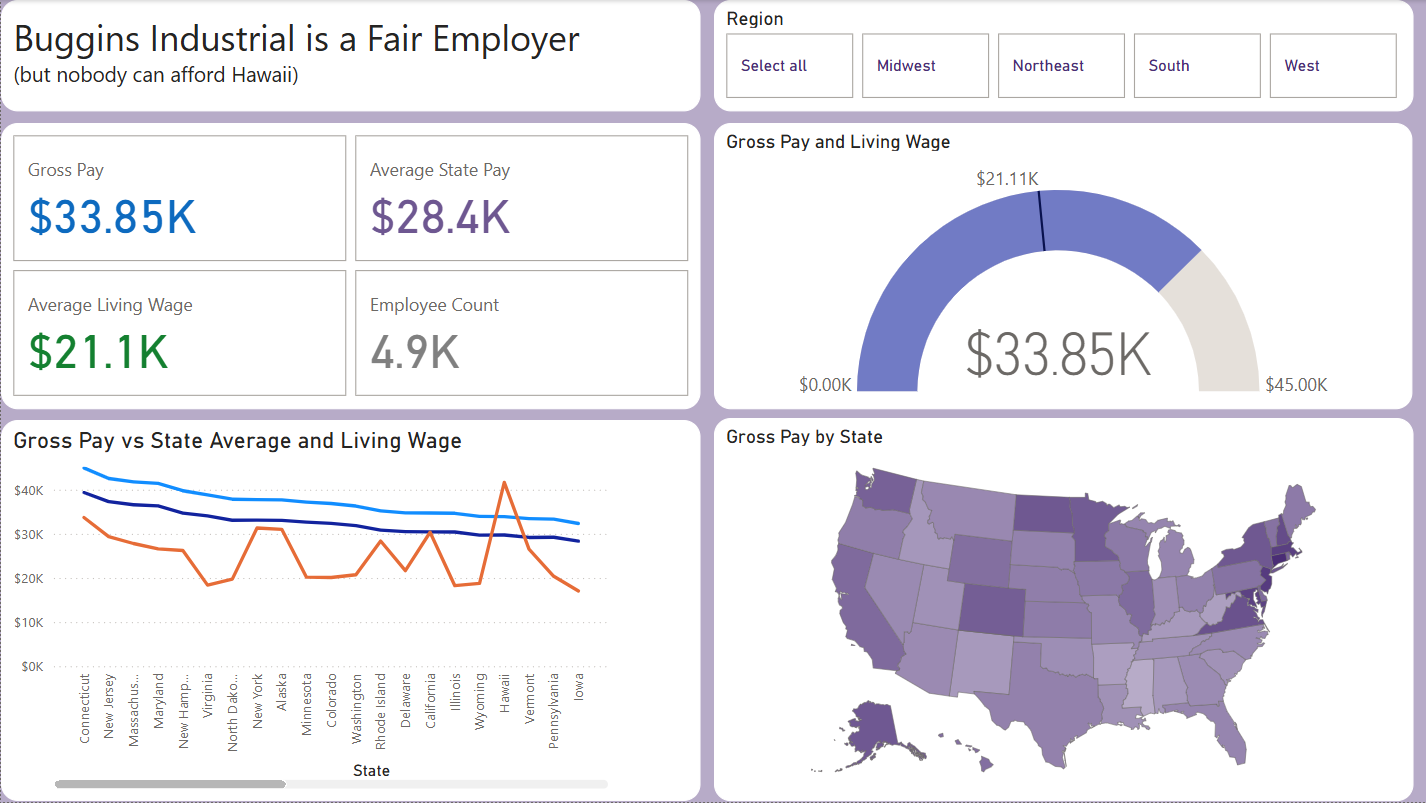

What the dashboard file says about the page in this screenshot:
{"tool":"powerbi","page":{"name":"Summary","canvas":[1280,720],"ordinal":0},"visuals":[{"type":"lineChart","title":"Gross Pay vs State Average and Living Wage","fields":{"Category":["StateInfo.StateName"],"Y":["Employees.Gross Pay","Employees.State AV","Employees.Living Wage"]},"box":[0,341.1,628.4,378],"z":0},{"type":"textbox","box":[0,0,628.4,99.7],"z":1000},{"type":"shapeMap","fields":{"Category":["StateInfo.State"],"Value":["Employees.Gross Pay"]},"box":[640.1,341.1,627.5,378],"z":2000},{"type":"gauge","fields":{"Y":["Employees.Gross Pay"],"TargetValue":["Employees.Living Wage"]},"box":[640.1,110.4,627.5,218.2],"z":3000},{"type":"cardVisual","fields":{"Data":["Employees.Gross Pay","Avg(StateInfo.AvStatePay)","Avg(StateInfo. LivingWage )","CountNonNull(Employees.EmpID)"]},"box":[0,110.4,628.4,218.2],"z":4000},{"type":"advancedSlicerVisual","fields":{"Values":["Regions.Region"]},"box":[640.1,0,627.5,99.7],"z":5000}]}

Visuals, with their boxes in screenshot pixels (x1, y1, x2, y2), scaled from the page's 1280x720 canvas onto the 1426x803 screenshot:
"Gross Pay vs State Average and Living Wage" lineChart: {"x1": 0, "y1": 380, "x2": 700, "y2": 802}
textbox: {"x1": 0, "y1": 0, "x2": 700, "y2": 111}
shapeMap - StateInfo.State x Employees.Gross Pay: {"x1": 713, "y1": 380, "x2": 1412, "y2": 802}
gauge - Employees.Gross Pay x Employees.Living Wage: {"x1": 713, "y1": 123, "x2": 1412, "y2": 366}
cardVisual - Employees.Gross Pay x Avg(StateInfo.AvStatePay): {"x1": 0, "y1": 123, "x2": 700, "y2": 366}
advancedSlicerVisual - Regions.Region: {"x1": 713, "y1": 0, "x2": 1412, "y2": 111}
